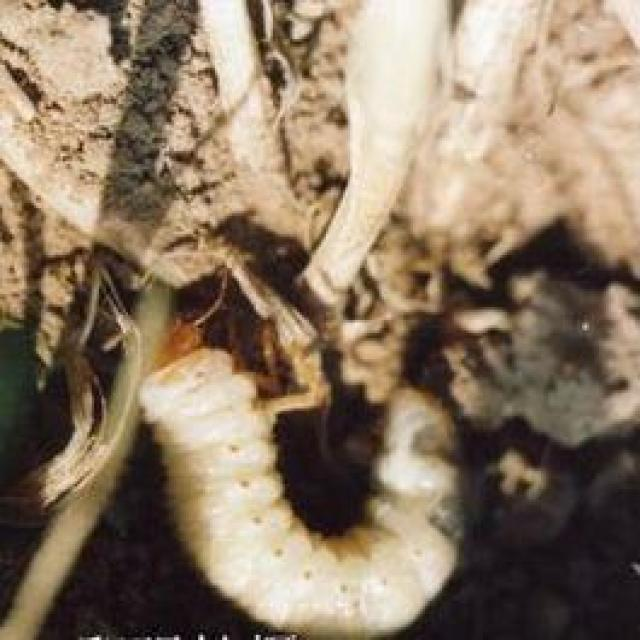Grub-Adult-: (138, 318, 478, 635)
